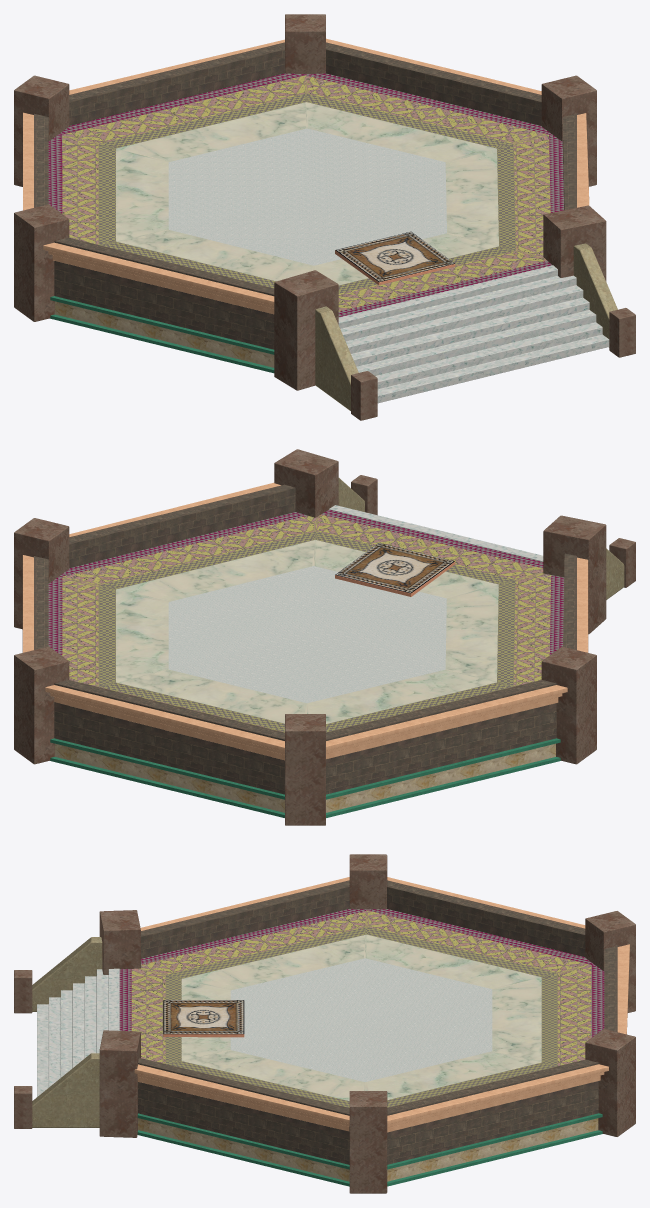
Rendered from Floor_02.gltf.
3 renders of one model, top to bottom at view 1: azimuth 30°, elevation 25°; view 2: azimuth 150°, elevation 25°; view 3: azimuth 270°, elevation 25°, orthographic. The views are drawn at different scales.
Visible parts, largest first — view 1: Floor_Part_02, Floor_Part_01, Floor_Part_06, Floor_Part_07, Floor_Part_04, Floor_Part_05, Floor_Part_03; view 2: Floor_Part_02, Floor_Part_06, Floor_Part_07, Floor_Part_05, Floor_Part_03, Floor_Part_01, Floor_Part_04; view 3: Floor_Part_02, Floor_Part_06, Floor_Part_07, Floor_Part_01, Floor_Part_04, Floor_Part_05, Floor_Part_03.
Boxes of the visible parts, bbox=[...] form: Floor_Part_02: bbox=[34, 42, 576, 373]; Floor_Part_01: bbox=[338, 265, 609, 403]; Floor_Part_06: bbox=[14, 14, 606, 390]; Floor_Part_07: bbox=[23, 38, 589, 314]; Floor_Part_04: bbox=[315, 243, 617, 410]; Floor_Part_05: bbox=[335, 231, 455, 285]; Floor_Part_03: bbox=[351, 308, 635, 420]; Floor_Part_02: bbox=[34, 484, 576, 817]; Floor_Part_06: bbox=[14, 449, 606, 825]; Floor_Part_07: bbox=[22, 482, 588, 760]; Floor_Part_05: bbox=[335, 543, 455, 596]; Floor_Part_03: bbox=[351, 475, 635, 587]; Floor_Part_01: bbox=[329, 505, 543, 561]; Floor_Part_04: bbox=[338, 478, 624, 599]; Floor_Part_02: bbox=[119, 880, 617, 1186]; Floor_Part_06: bbox=[99, 854, 635, 1193]; Floor_Part_07: bbox=[134, 877, 629, 1132]; Floor_Part_01: bbox=[37, 968, 119, 1096]; Floor_Part_04: bbox=[32, 937, 102, 1127]; Floor_Part_05: bbox=[163, 1000, 244, 1037]; Floor_Part_03: bbox=[14, 970, 32, 1128].
Bounding box in the file's own units: 22.07 × 3.56 × 22.99.
Materials: 15 (15 with a texture image).
